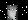person: (8, 6, 19, 20)
